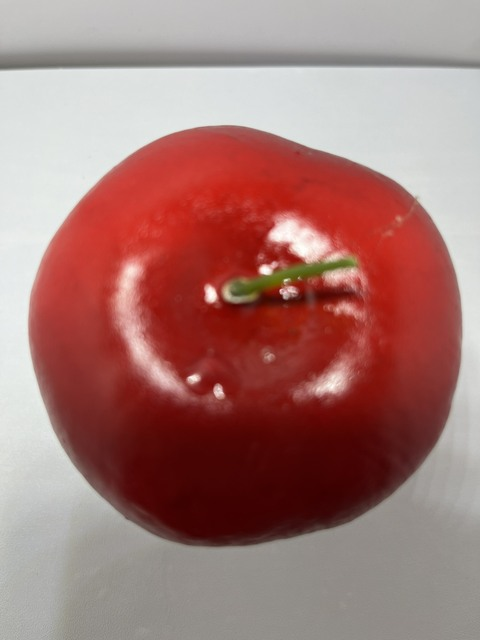Tao: (26, 123, 469, 552)
